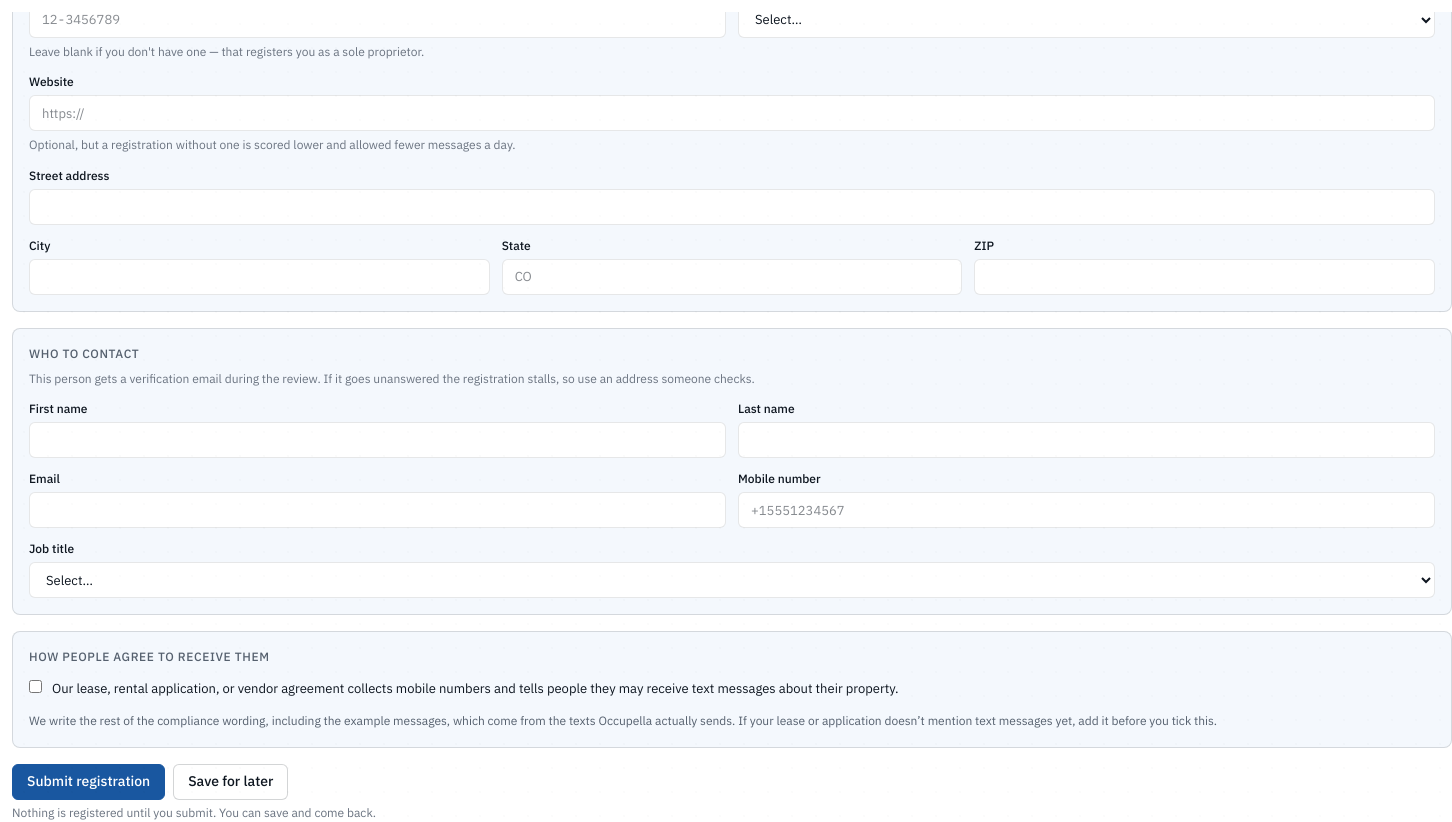
Scenario: A2pRegistrationForm — when problems are shown › flags what is missing once the customer actually tries to submit
(page scrolled)
Click the button with test id "a2p-submit". click: (89, 782)
box: 12,764 -> 165,800
(page scrolled)
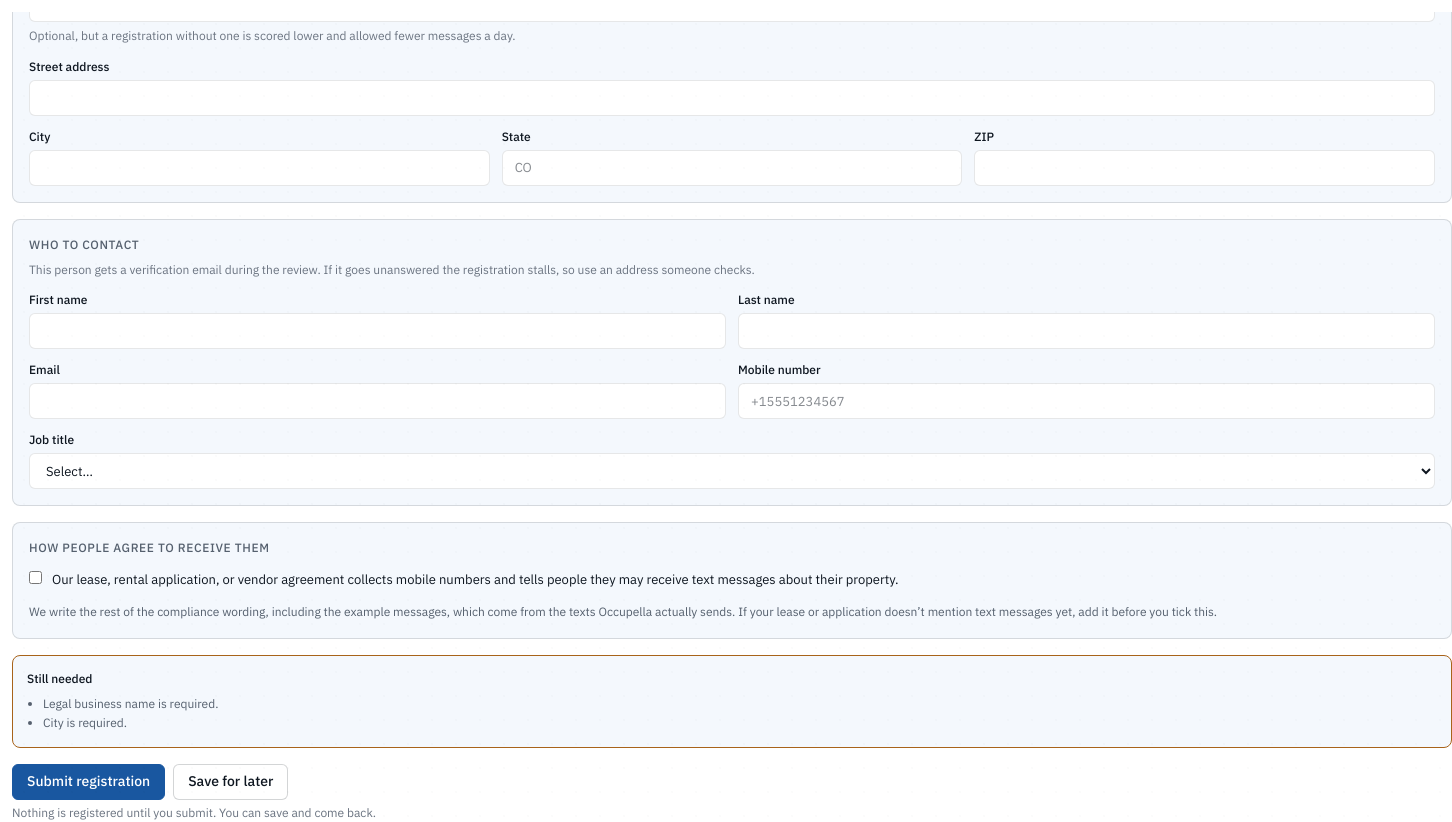
Now the element with test id "a2p-problems" shows "Legal business name is required.", box 43,696 -> 218,711
